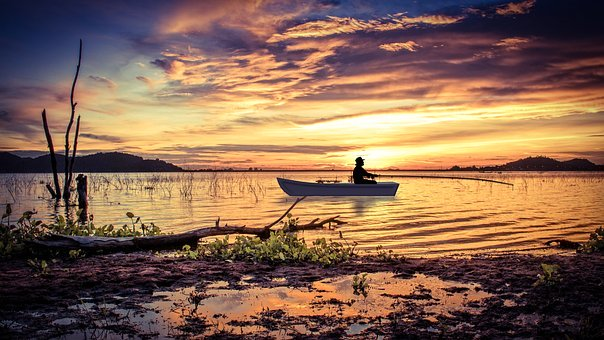lake: (5, 174, 599, 340)
sky: (1, 3, 602, 172)
